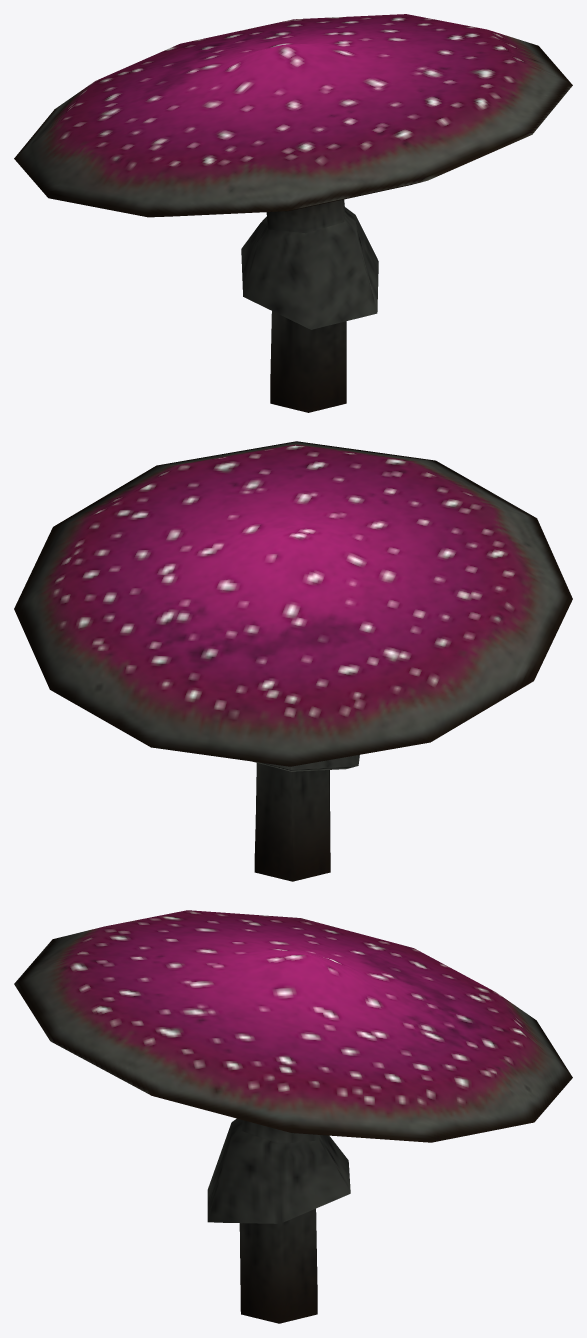
File: Mushroom_02_Low.fbx
The picture shows the model from 3 angles, top to bottom: view 1: azimuth 30°, elevation 25°; view 2: azimuth 150°, elevation 25°; view 3: azimuth 270°, elevation 25°; orthographic projection.
Visible parts, largest first — view 1: polySurface2; view 2: polySurface2; view 3: polySurface2.
Boxes of the visible parts, bbox=[...] form: polySurface2: bbox=[14, 14, 572, 412]; polySurface2: bbox=[14, 441, 572, 881]; polySurface2: bbox=[14, 910, 572, 1323].
Bounding box in the file's own units: 5.55 × 3.72 × 5.48.
1 material, 1 textured.
